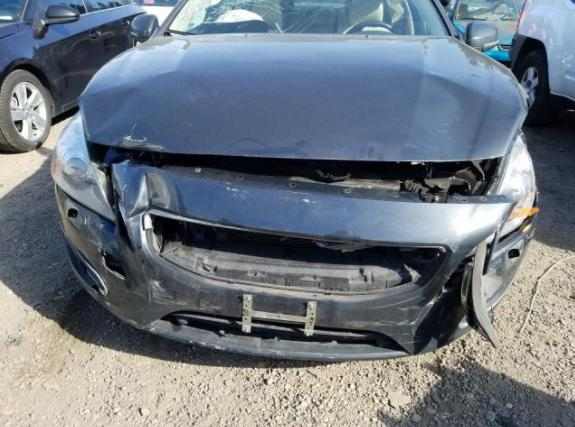Front-bumper: (54, 165, 537, 362)
Headlight: (51, 108, 116, 220), (495, 131, 536, 239)
Hood: (78, 34, 528, 160)
Mirror: (464, 21, 499, 52), (129, 14, 158, 43)
Windshield: (164, 0, 451, 35)
